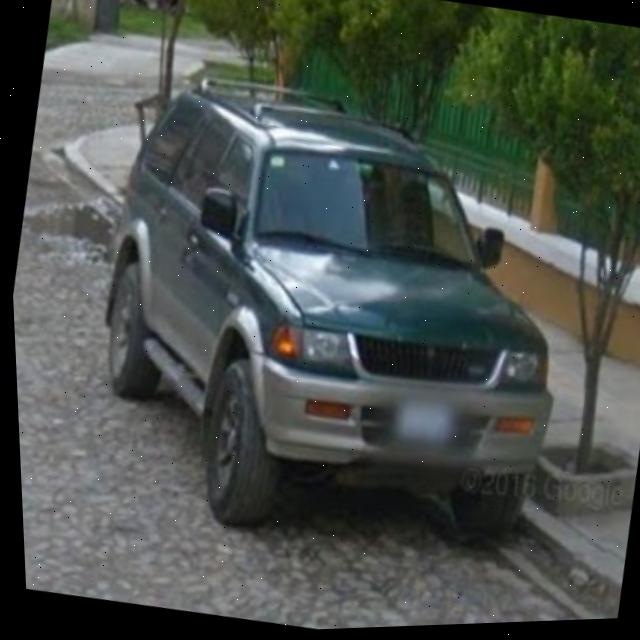vehicle: (69, 32, 587, 554)
